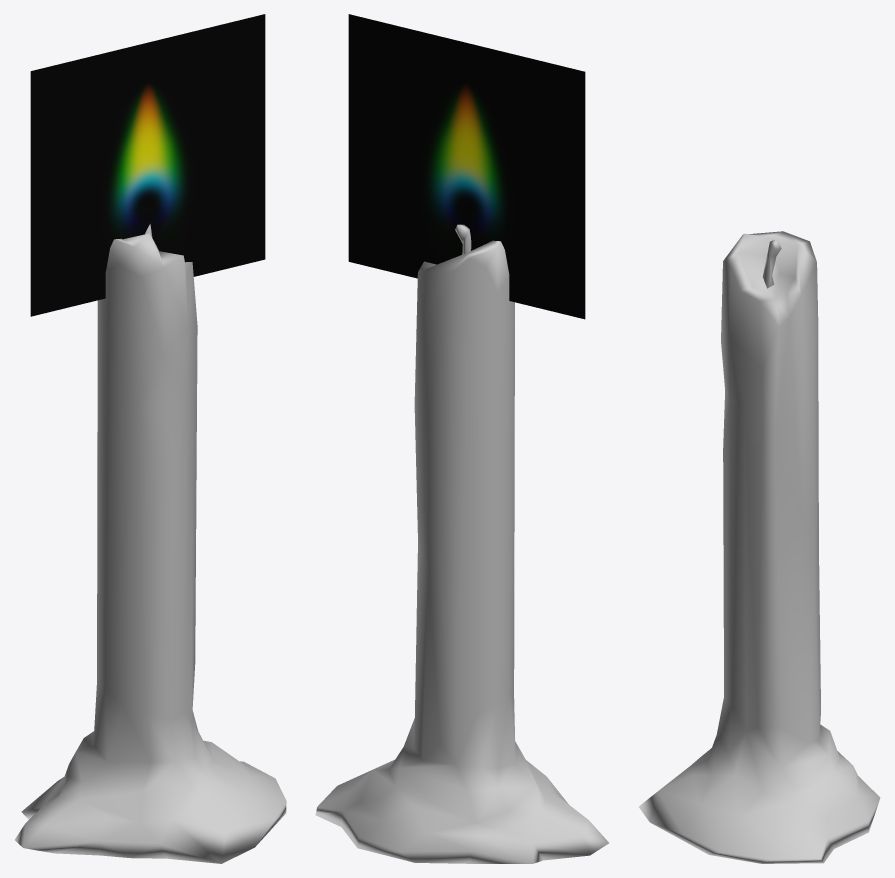
Rendered from Candle_High.fbx.
3 views of the same model, side by side, from view 1: azimuth 30°, elevation 25°; view 2: azimuth 150°, elevation 25°; view 3: azimuth 270°, elevation 25° (orthographic). The views are drawn at different scales.
Parts seen in each view (by area): view 1: Candle_Tall, Candle_Flame; view 2: Candle_Tall, Candle_Flame; view 3: Candle_Tall.
Boxes of the visible parts, x1,y1,x2,y2 form: Candle_Tall: (14, 224, 286, 863); Candle_Flame: (30, 14, 265, 316); Candle_Tall: (315, 224, 608, 863); Candle_Flame: (348, 14, 585, 319); Candle_Tall: (638, 231, 880, 863).
Bounding box in the file's own units: 33.39 × 94.99 × 28.12.
